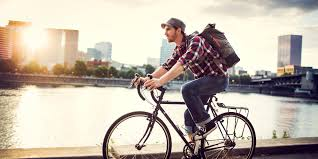Bicycle: (101, 77, 255, 159)
